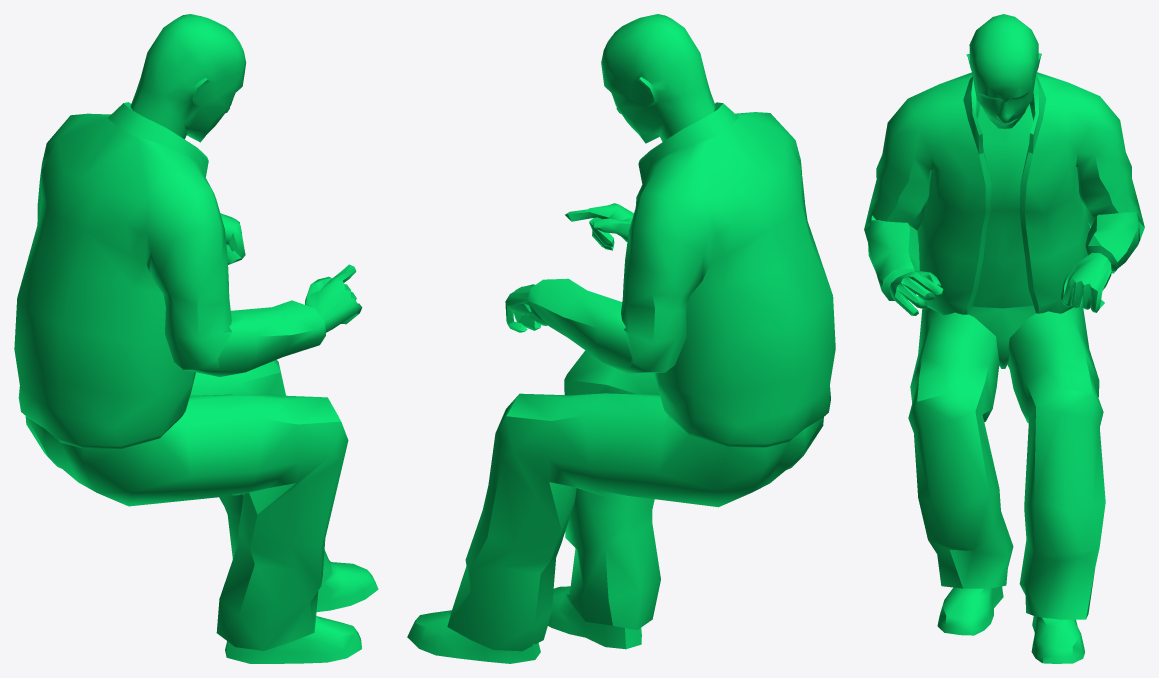
File: SM_Man_Sit_Talking.glb
The picture shows the model from 3 angles, left to right: view 1: azimuth 30°, elevation 25°; view 2: azimuth 150°, elevation 25°; view 3: azimuth 270°, elevation 25°; orthographic projection. The views are drawn at different scales.
Visible parts, largest first — view 1: SM_Man_Sit_Talking; view 2: SM_Man_Sit_Talking; view 3: SM_Man_Sit_Talking.
Part boxes in pixels (bbox=[...]): SM_Man_Sit_Talking: bbox=[14, 14, 378, 663]; SM_Man_Sit_Talking: bbox=[407, 14, 835, 663]; SM_Man_Sit_Talking: bbox=[864, 14, 1144, 663].
Size of the model in its own units: 0.8486 by 1.4 by 0.6356.
